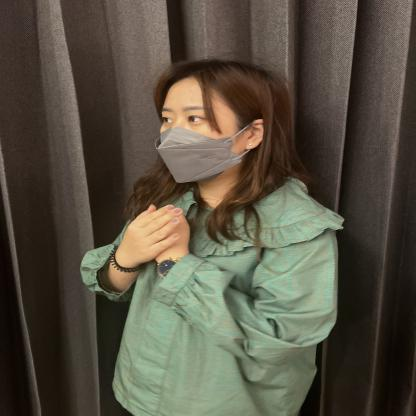Grieve: (41, 172, 288, 327)
